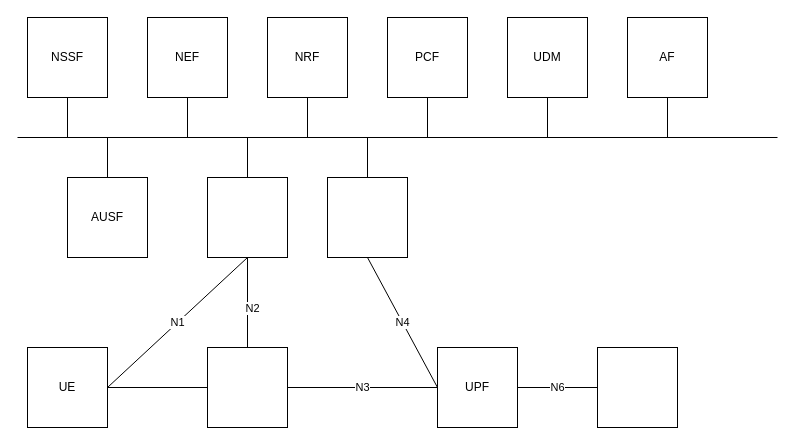
This 796x445 diagram has some shape labels left out. The box of each missing label's shape, as (x1, y1, x2, y2) in pixels:
AMF: (206, 176, 288, 258)
DN INTERNET: (596, 346, 678, 428)
RAN: (206, 346, 288, 428)
SMF: (326, 176, 408, 258)
